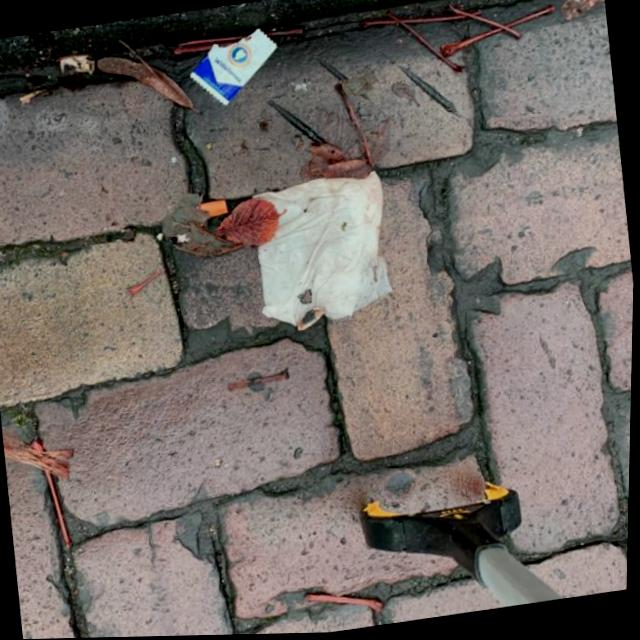Paper: (246, 169, 400, 333)
Plastic: (181, 25, 284, 112)
